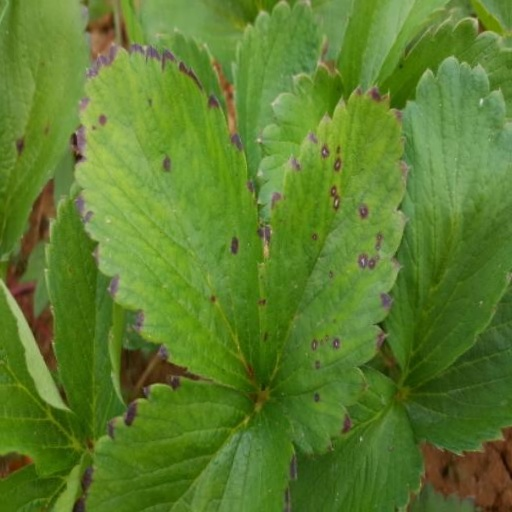Leaf Spot: (73, 40, 266, 393), (254, 83, 412, 461)
